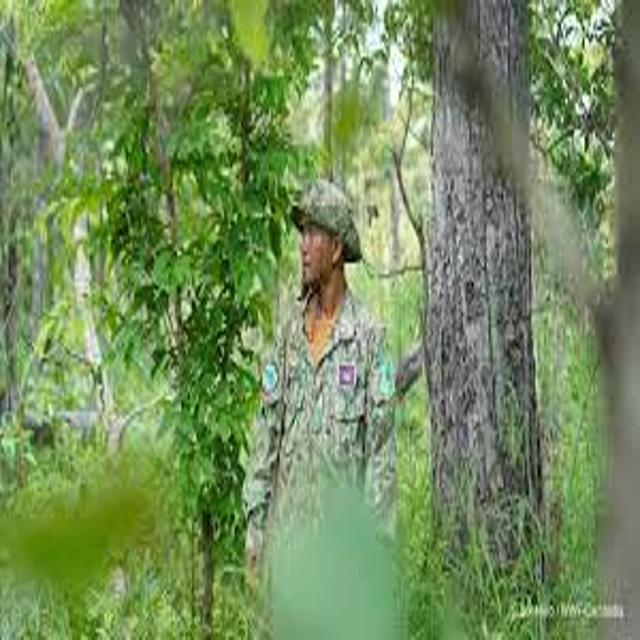ranger: (224, 152, 450, 610)
